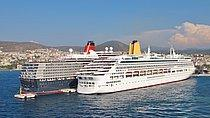Ship: (75, 36, 200, 97)
